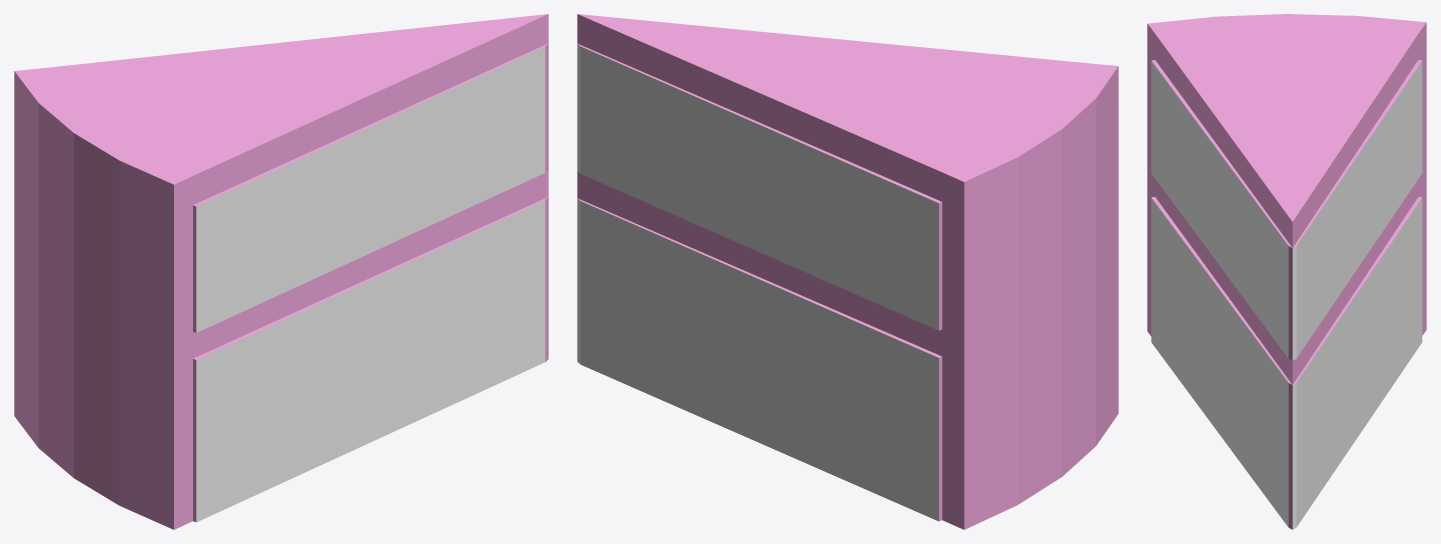
File: Cake2.dae
The picture shows the model from 3 angles, left to right: view 1: azimuth 30°, elevation 25°; view 2: azimuth 150°, elevation 25°; view 3: azimuth 270°, elevation 25°; orthographic projection. The views are drawn at different scales.
Parts seen in each view (by area): view 1: Cylinder003; view 2: Cylinder003; view 3: Cylinder003.
Part boxes in pixels (box(x1,y1,x2,y2)): Cylinder003: box(14, 14, 548, 529); Cylinder003: box(577, 14, 1118, 529); Cylinder003: box(1147, 14, 1426, 529).
Size of the model in its own units: 21.44 by 14.8 by 12.15.
